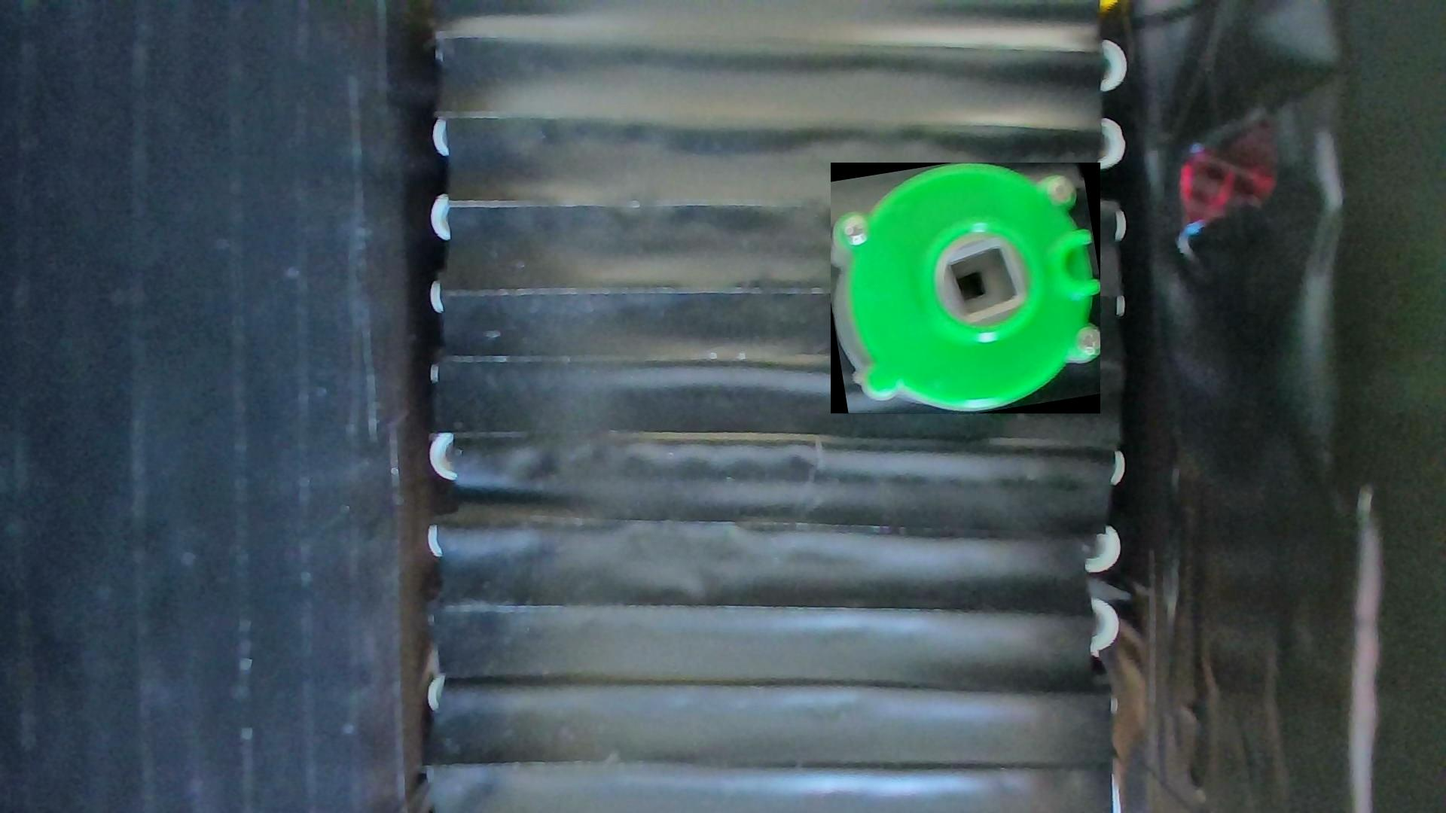cartridge: (831, 163, 1100, 415)
